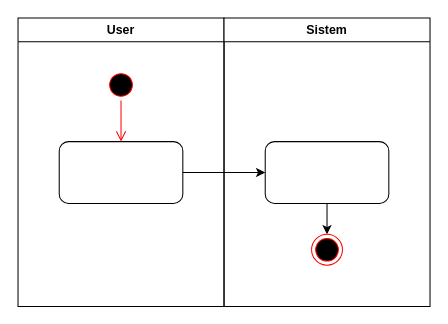
This 448x324 diagram has some shape labels left out. The shapes that lost their labels are listed below. From the top down, each one's centre as x and y in pixels, then its label:
At [120,172]: "Pilih Engineering data pada sidebar".
At [326,172]: "Menampilkan halaman engineering data".
